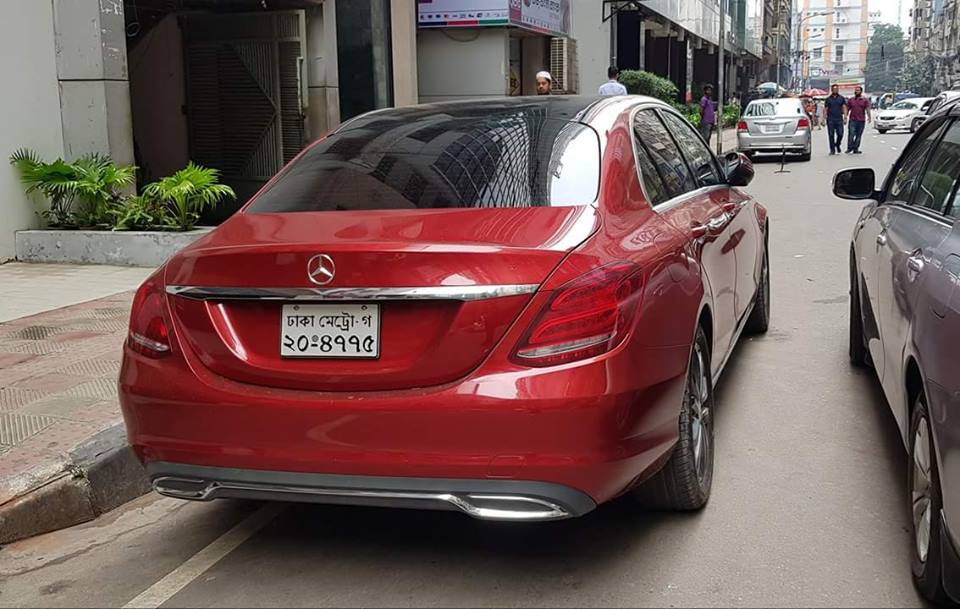registration_plate: (280, 302, 382, 360)
